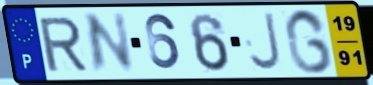6: (188, 12, 232, 73), (143, 11, 183, 74)
G: (283, 7, 335, 76)
J: (247, 11, 284, 73)
N: (83, 10, 137, 76)
R: (36, 14, 89, 73)
